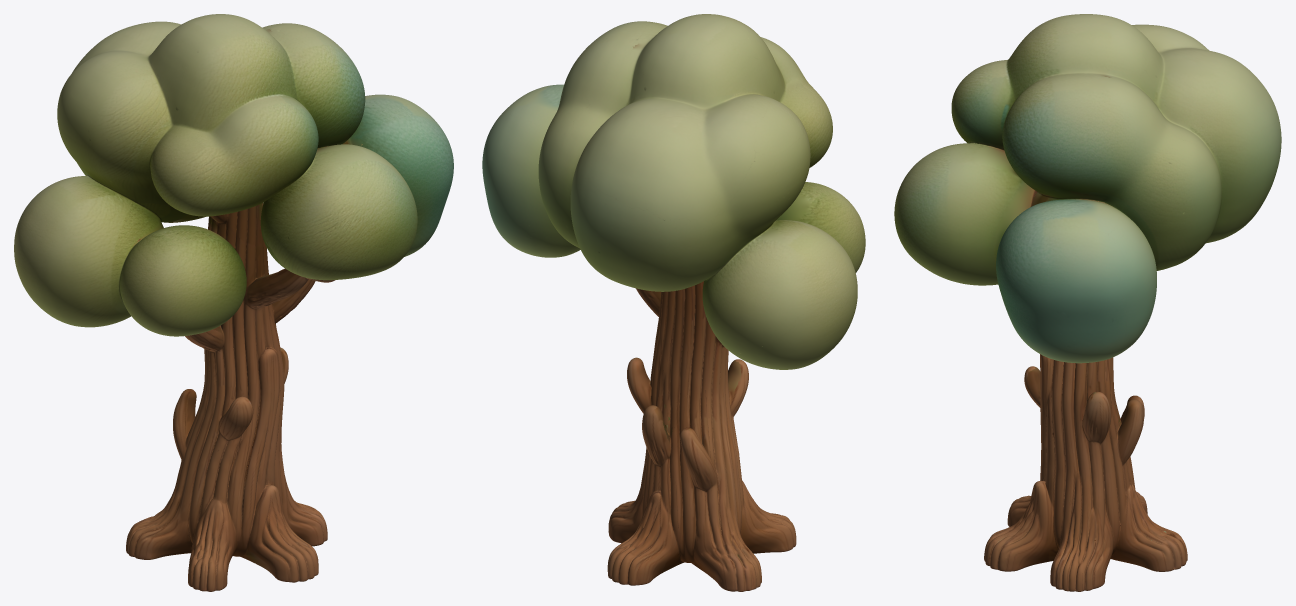
File: tree.glb
3 renders of one model, left to right at view 1: azimuth 30°, elevation 25°; view 2: azimuth 150°, elevation 25°; view 3: azimuth 270°, elevation 25°, orthographic.
Parts seen in each view (by area): view 1: texture_pbr_v128; view 2: texture_pbr_v128; view 3: texture_pbr_v128.
Boxes of the visible parts, <box> form: texture_pbr_v128: <box>14,14,453,591</box>; texture_pbr_v128: <box>482,14,865,591</box>; texture_pbr_v128: <box>894,14,1281,591</box>.
Size of the model in its own units: 0.8391 by 1.12 by 0.7457.
Materials: 1 (1 with a texture image).
